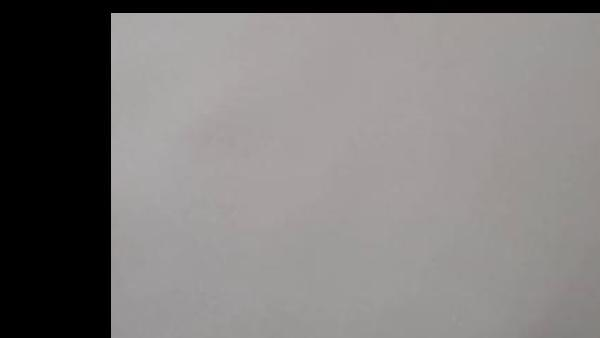light_off: (37, 307, 289, 338)
